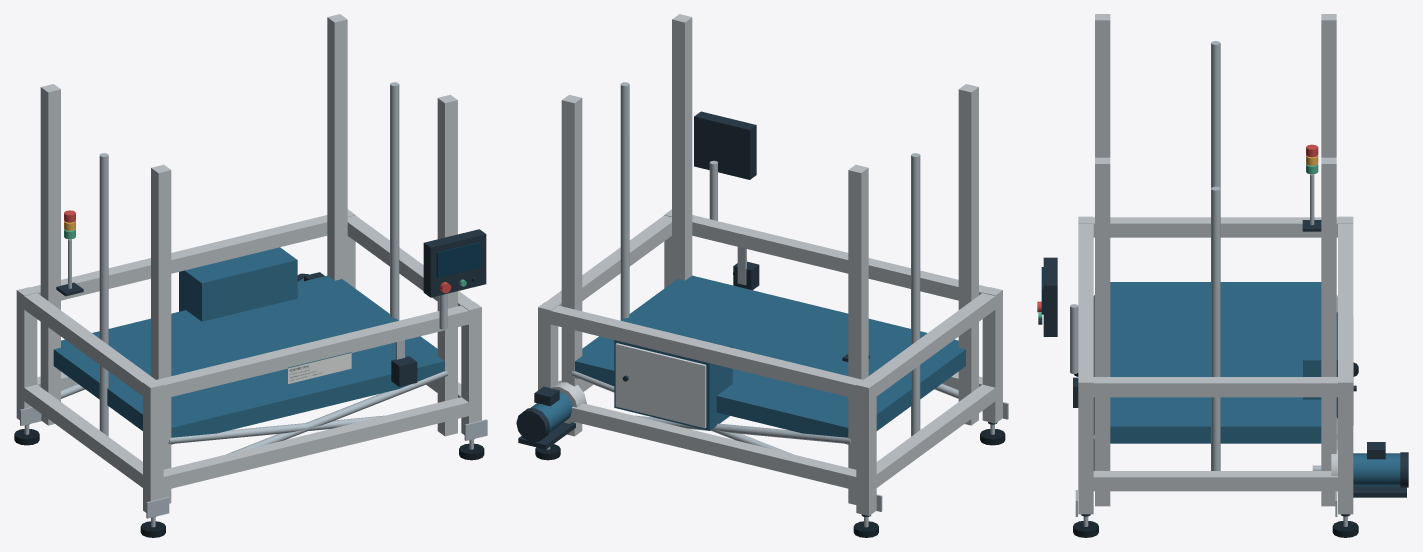
File: pile-lift.glb
3 views of the same model, side by side, from view 1: azimuth 30°, elevation 25°; view 2: azimuth 150°, elevation 25°; view 3: azimuth 270°, elevation 25° (orthographic). The views are drawn at different scales.
Visible parts, largest first — view 1: Platform_35, Extrusion_22, Extrusion_23, ElectricalCabinet_28, Extrusion_31, Extrusion_33, Extrusion_32, Extrusion_21, Extrusion_34, Extrusion_25, Extrusion_24, Extrusion_8 (+11 smaller); view 2: Platform_35, Extrusion_21, Extrusion_20, BackAccessDoor_29, Extrusion_32, Extrusion_33, Extrusion_34, Extrusion_31, Extrusion_23, PanelBack_50, Extrusion_25, Extrusion_24 (+12 smaller); view 3: Platform_35, Extrusion_27, Extrusion_26, Extrusion_34, Extrusion_33, Extrusion_25, LiftScrew_37, Extrusion_23, Extrusion_21, Extrusion_31, Extrusion_32, Extrusion_13 (+7 smaller).
Boxes of the visible parts, x1=… form: Platform_35: x1=53, y1=275, x2=444, y2=444; Extrusion_22: x1=157, y1=397, x2=475, y2=491; Extrusion_23: x1=157, y1=305, x2=475, y2=399; ElectricalCabinet_28: x1=179, y1=247, x2=297, y2=321; Extrusion_31: x1=40, y1=84, x2=60, y2=425; Extrusion_33: x1=327, y1=14, x2=347, y2=282; Extrusion_32: x1=151, y1=164, x2=171, y2=503; Extrusion_21: x1=30, y1=215, x2=327, y2=300; Extrusion_34: x1=437, y1=94, x2=457, y2=436; Extrusion_25: x1=24, y1=293, x2=154, y2=396; Extrusion_24: x1=20, y1=384, x2=145, y2=489; Extrusion_8: x1=143, y1=379, x2=163, y2=512; Platform_35: x1=575, y1=275, x2=965, y2=444; Extrusion_21: x1=544, y1=305, x2=862, y2=398; Extrusion_20: x1=567, y1=403, x2=862, y2=491; BackAccessDoor_29: x1=615, y1=343, x2=706, y2=428; Extrusion_32: x1=958, y1=84, x2=978, y2=425; Extrusion_33: x1=561, y1=94, x2=582, y2=436; Extrusion_34: x1=672, y1=14, x2=692, y2=282; Extrusion_31: x1=848, y1=164, x2=868, y2=504; Extrusion_23: x1=692, y1=215, x2=988, y2=300; PanelBack_50: x1=694, y1=111, x2=756, y2=179; Extrusion_25: x1=864, y1=293, x2=996, y2=395; Extrusion_24: x1=873, y1=384, x2=998, y2=489; Platform_35: x1=1110, y1=282, x2=1321, y2=443; Extrusion_27: x1=1086, y1=377, x2=1345, y2=397; Extrusion_26: x1=1086, y1=471, x2=1345, y2=491; Extrusion_34: x1=1095, y1=157, x2=1110, y2=506; Extrusion_33: x1=1321, y1=157, x2=1336, y2=506; Extrusion_25: x1=1093, y1=217, x2=1337, y2=237; LiftScrew_37: x1=1211, y1=186, x2=1220, y2=470; Extrusion_23: x1=1078, y1=223, x2=1093, y2=376; Extrusion_21: x1=1338, y1=223, x2=1353, y2=376; Extrusion_31: x1=1321, y1=14, x2=1336, y2=157; Extrusion_32: x1=1095, y1=14, x2=1110, y2=157; Extrusion_13: x1=1338, y1=376, x2=1353, y2=514.
Bounding box in the file's own units: 1.71 × 1.7 × 1.57.
Materials: 11 (1 with a texture image).
